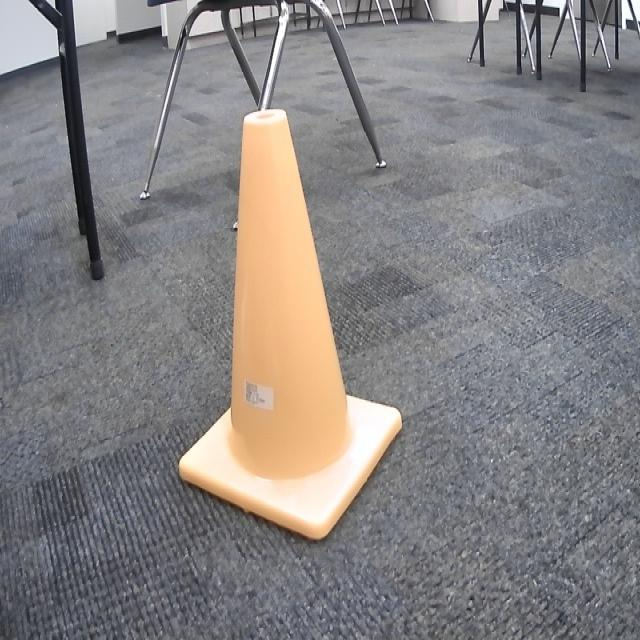cone: (176, 107, 403, 548)
